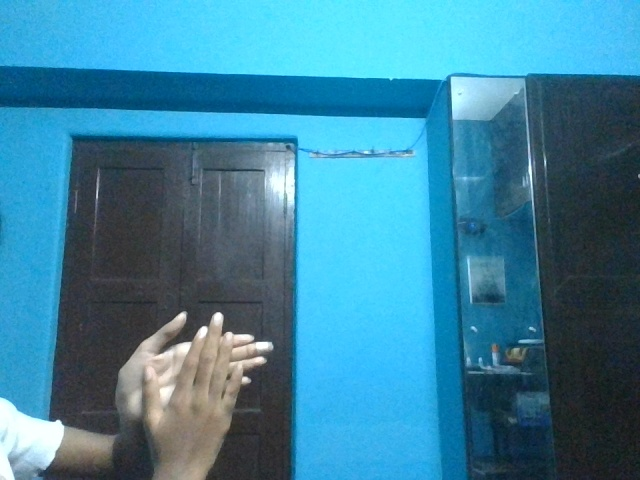H: (104, 309, 274, 457)
